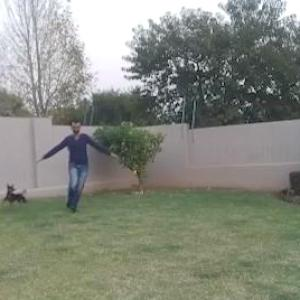land: (45, 111, 131, 213)
